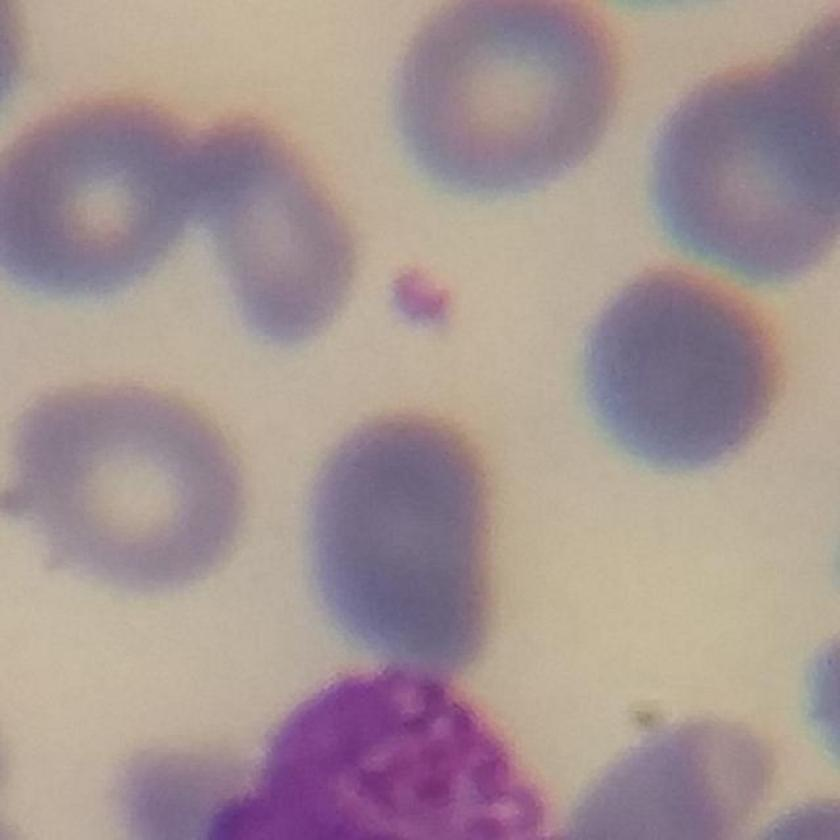basophil: (181, 657, 575, 840)
